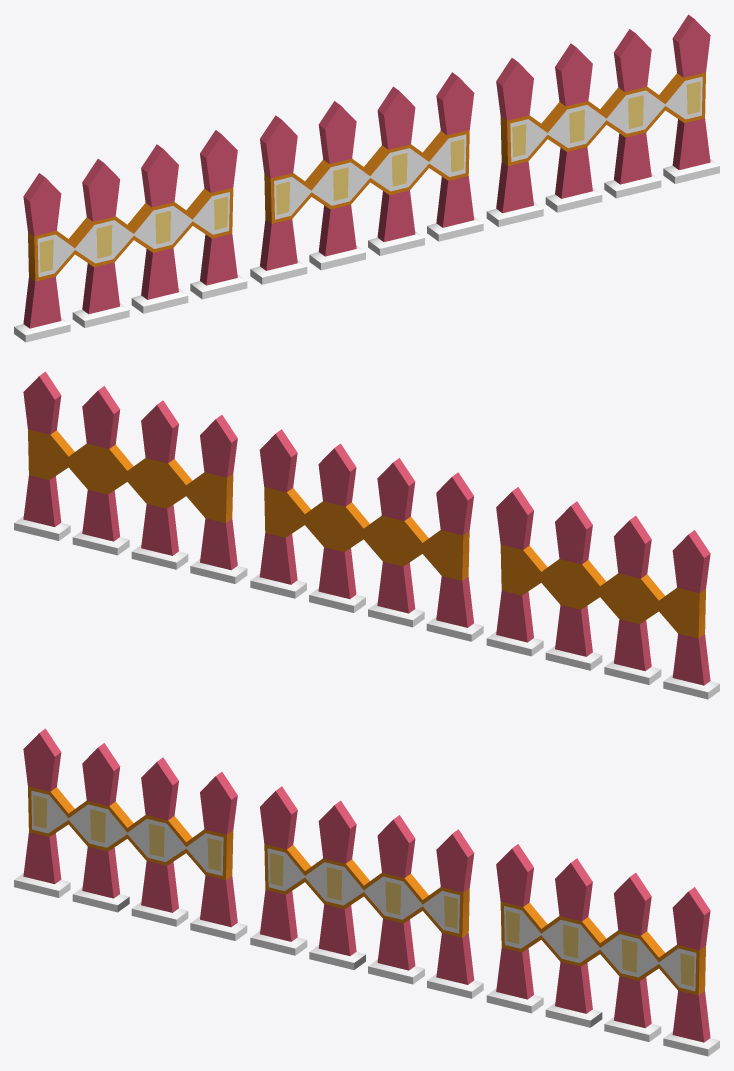
File: Ultari2-2.fbx
The picture shows the model from 3 angles, top to bottom: view 1: azimuth 30°, elevation 25°; view 2: azimuth 150°, elevation 25°; view 3: azimuth 330°, elevation 25°; orthographic projection.
Parts seen in each view (by area): view 1: Ultari1-2; view 2: Ultari1-2; view 3: Ultari1-2.
Boxes of the visible parts, x1,y1,x2,y2 form: Ultari1-2: (14,14,719,342); Ultari1-2: (14,371,719,699); Ultari1-2: (14,728,719,1056).
Size of the model in its own units: 1.27 by 0.2759 by 0.0374.
